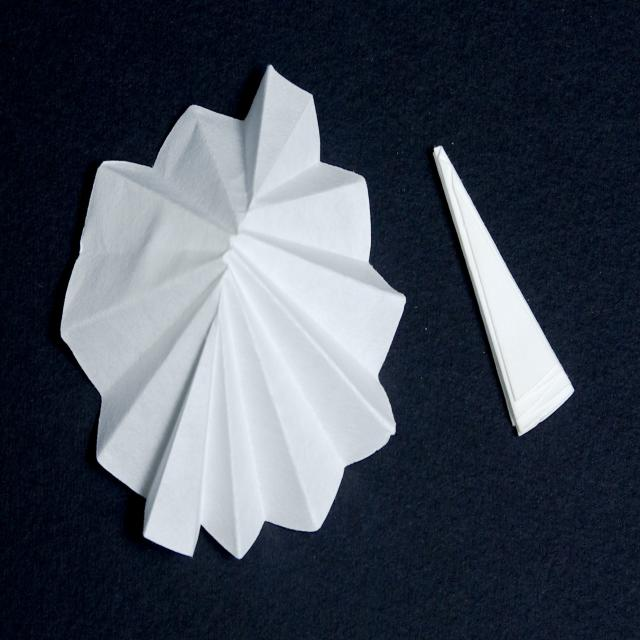Papel: (61, 61, 408, 574)
